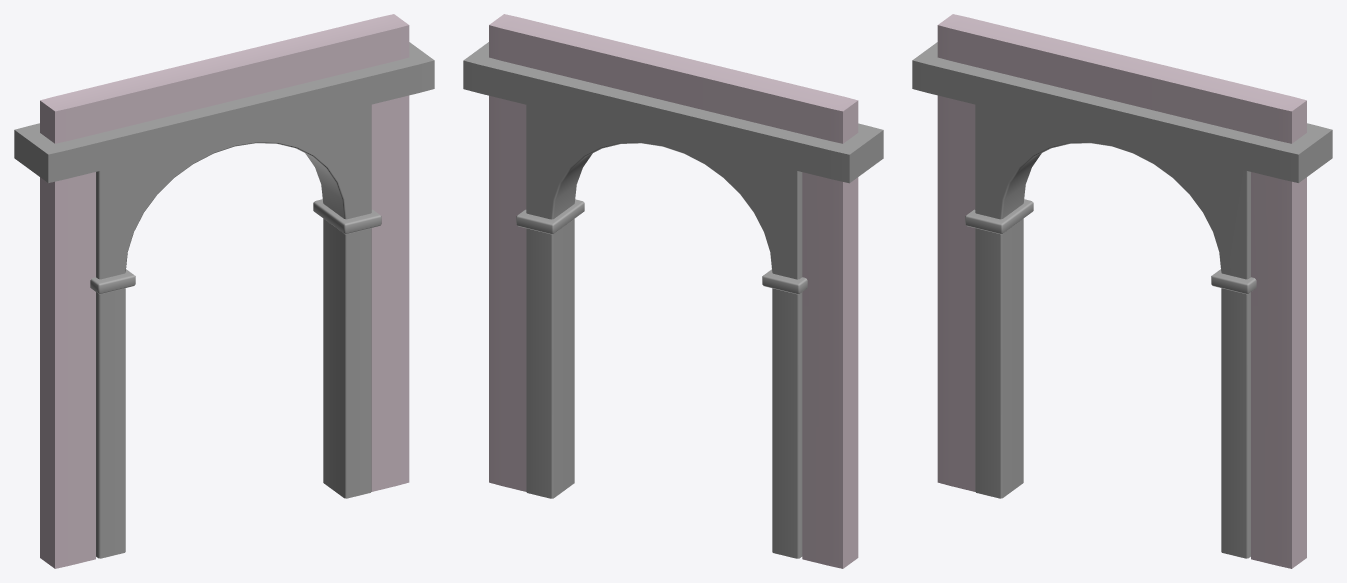
File: mod_sc_roma_door_002.fbx
The picture shows the model from 3 angles, left to right: view 1: azimuth 30°, elevation 25°; view 2: azimuth 150°, elevation 25°; view 3: azimuth 330°, elevation 25°; orthographic projection.
Visible parts, largest first — view 1: mod_sc_roma_001_ar09_wall_013; view 2: mod_sc_roma_001_ar09_wall_013; view 3: mod_sc_roma_001_ar09_wall_013.
Part boxes in pixels (x1,y1,x2,y2): mod_sc_roma_001_ar09_wall_013: (14,14,434,568); mod_sc_roma_001_ar09_wall_013: (463,14,883,568); mod_sc_roma_001_ar09_wall_013: (912,14,1332,568).
Size of what is drawn, in the model's own units: 707 by 800 by 110.
Materials: 2 (1 with a texture image).
